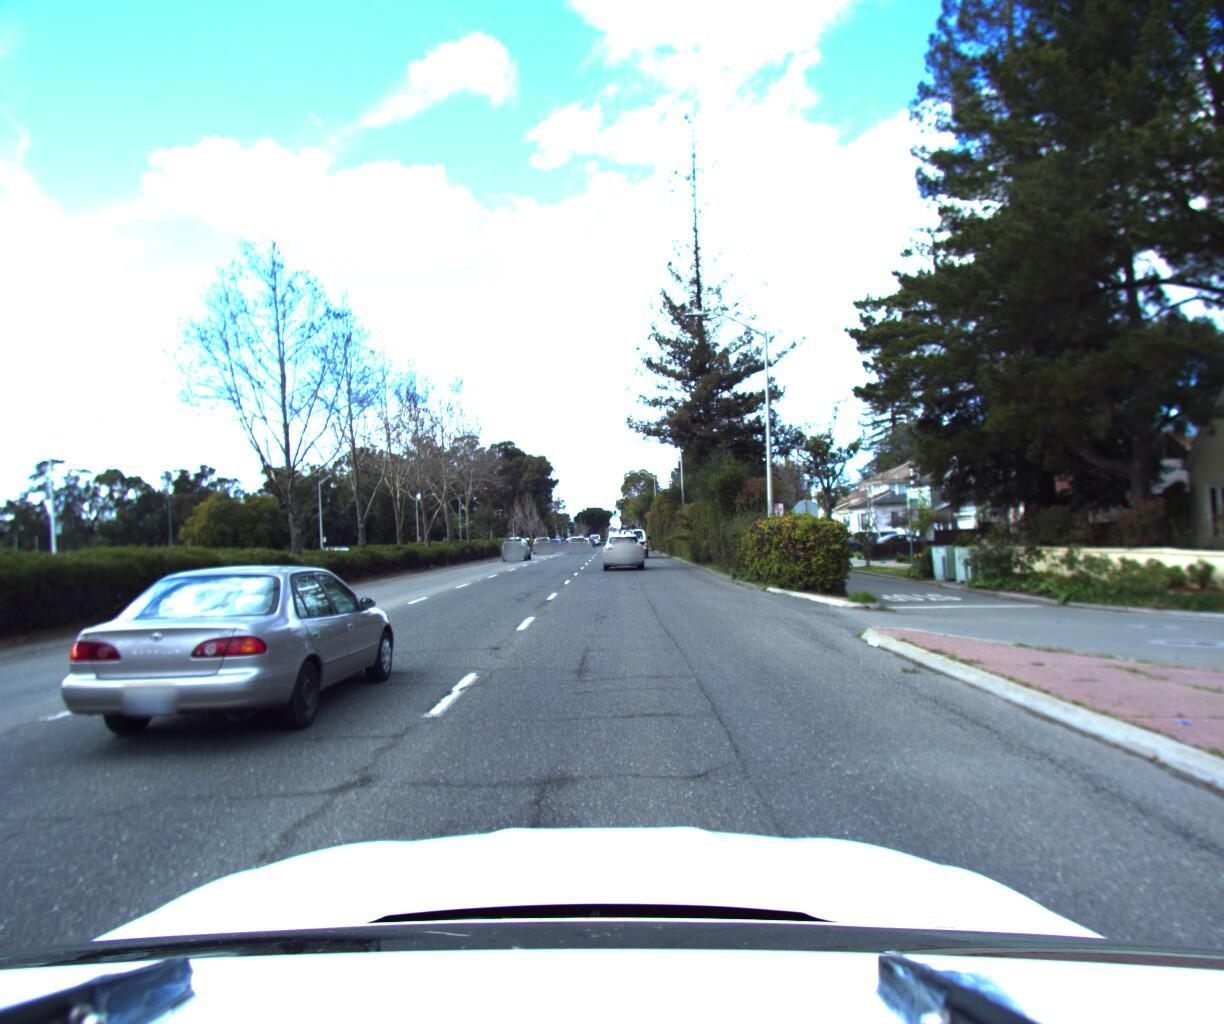car: (29, 553, 417, 774), (603, 533, 649, 576), (620, 525, 656, 561), (502, 538, 535, 565), (533, 539, 557, 558), (569, 538, 592, 557)
